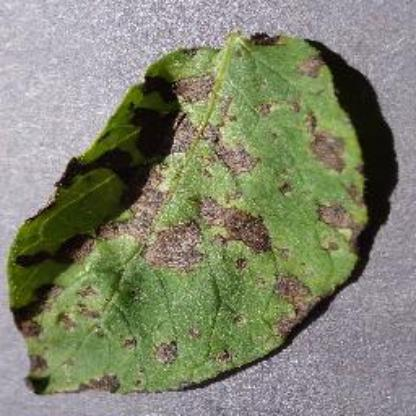Early-Blight: (7, 27, 381, 398)
